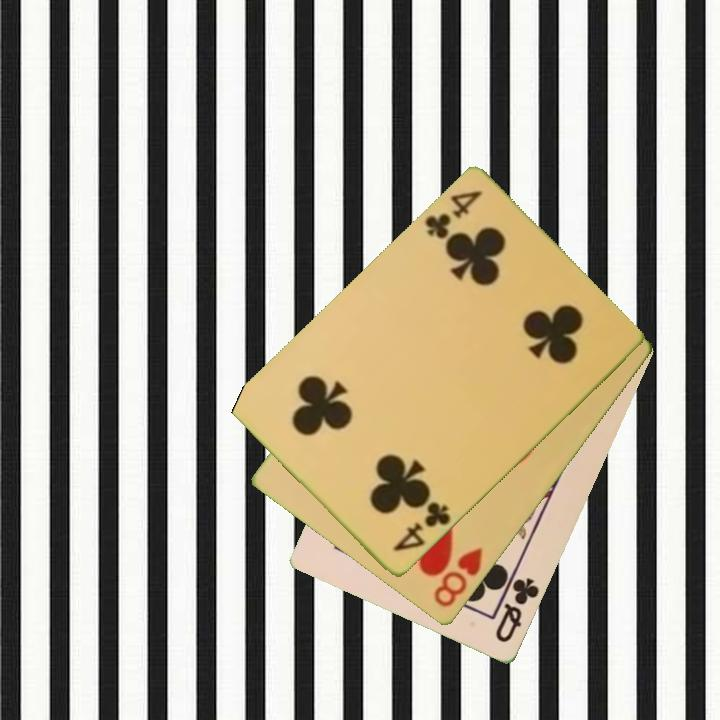4c: (390, 498, 454, 555), (421, 187, 485, 243)
8h: (430, 544, 486, 611)
Qc: (491, 567, 543, 647)
